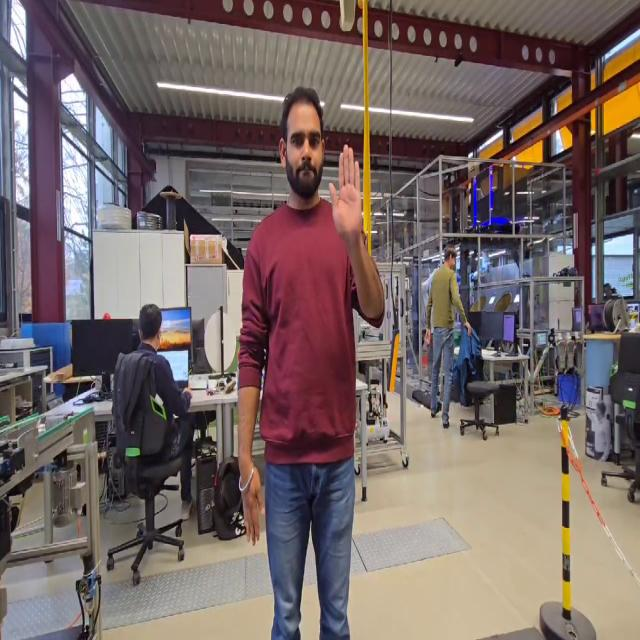open_palm: (326, 140, 367, 250)
